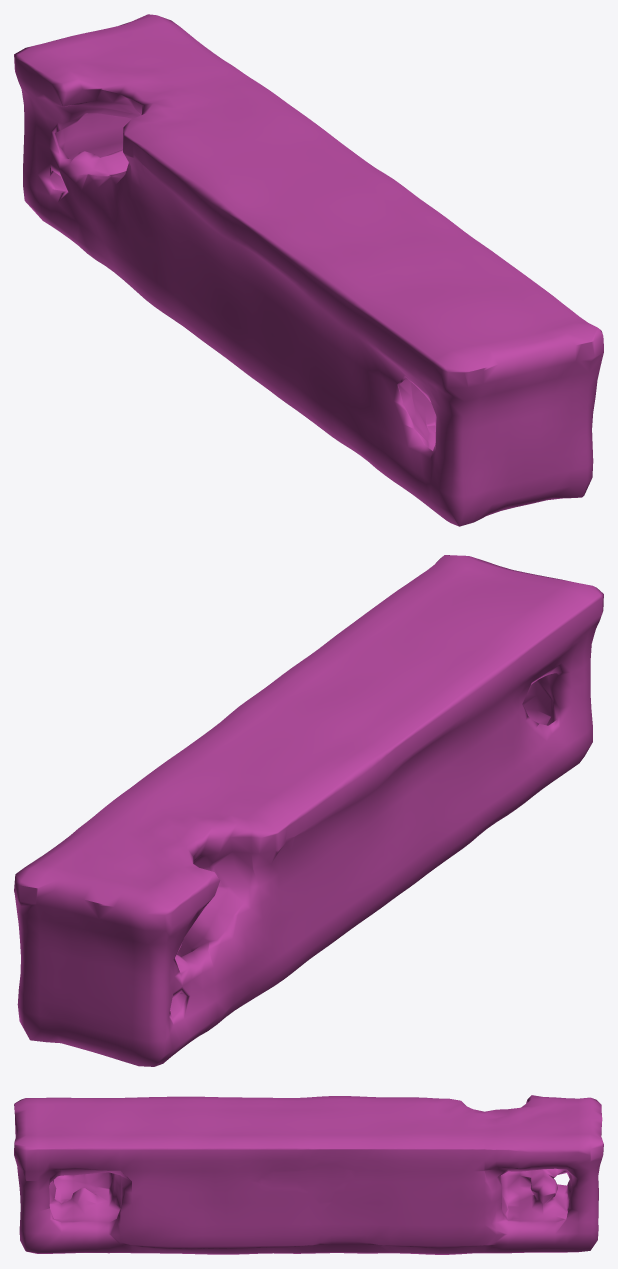
File: tv_stand_12_6.obj
3 renders of one model, top to bottom at view 1: azimuth 30°, elevation 25°; view 2: azimuth 150°, elevation 25°; view 3: azimuth 270°, elevation 25°, orthographic. The views are drawn at different scales.
Bounding box in the file's own units: 0.1685 × 0.1737 × 0.7845.
